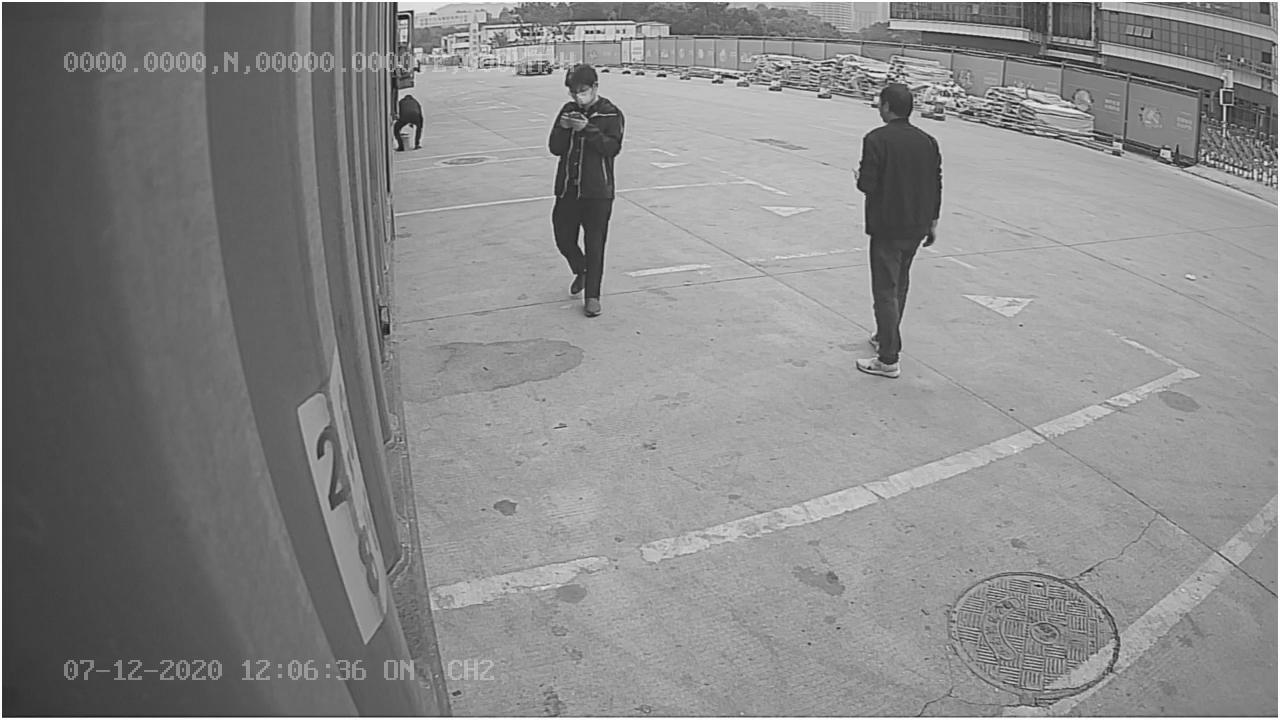person: (847, 75, 946, 379), (544, 59, 626, 316)
